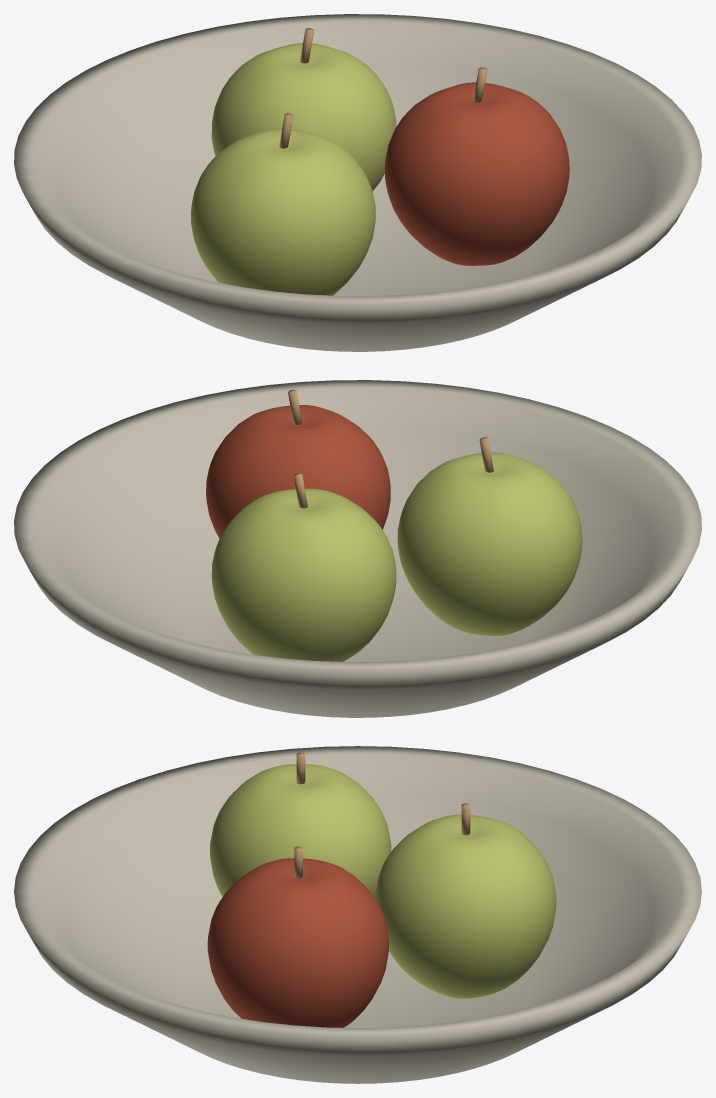
The model's file is scandinavian.fruit_bowl.gltf.
The picture shows the model from 3 angles, top to bottom: view 1: azimuth 30°, elevation 25°; view 2: azimuth 150°, elevation 25°; view 3: azimuth 270°, elevation 25°; orthographic projection.
Visible parts, largest first — view 1: scandinavian.fruit_bowl.stoneware; view 2: scandinavian.fruit_bowl.stoneware; view 3: scandinavian.fruit_bowl.stoneware.
Part boxes in pixels (x1,y1,x2,y2): scandinavian.fruit_bowl.stoneware: [14, 14, 701, 351]; scandinavian.fruit_bowl.stoneware: [14, 380, 701, 717]; scandinavian.fruit_bowl.stoneware: [14, 746, 701, 1083].
Size of the model in its own units: 0.3 by 0.0983 by 0.3.
4 materials, 1 textured.
